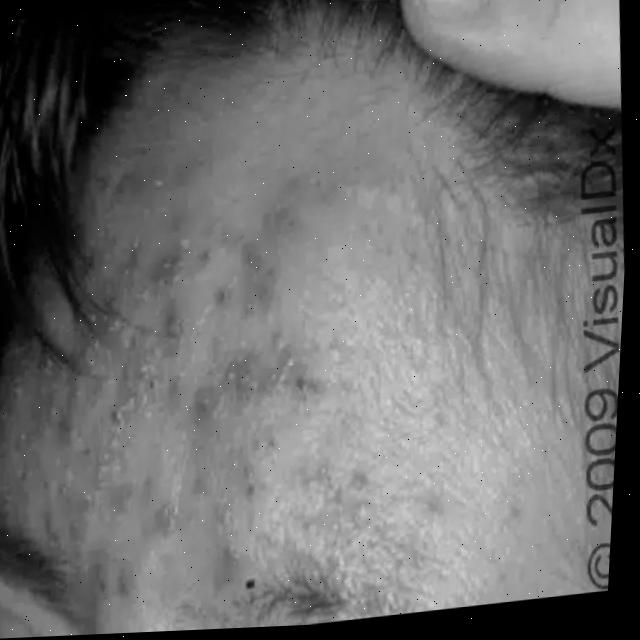Rosacea: (0, 138, 377, 585)
